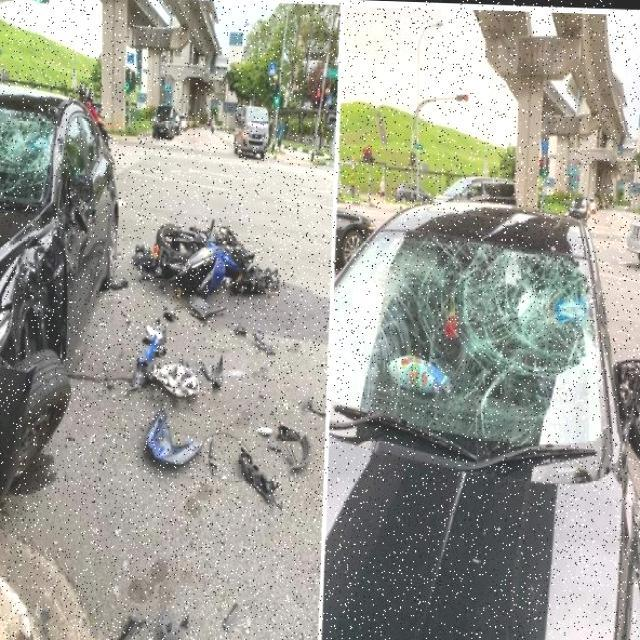accident: (407, 165, 609, 430), (0, 74, 129, 366), (130, 182, 293, 338)
